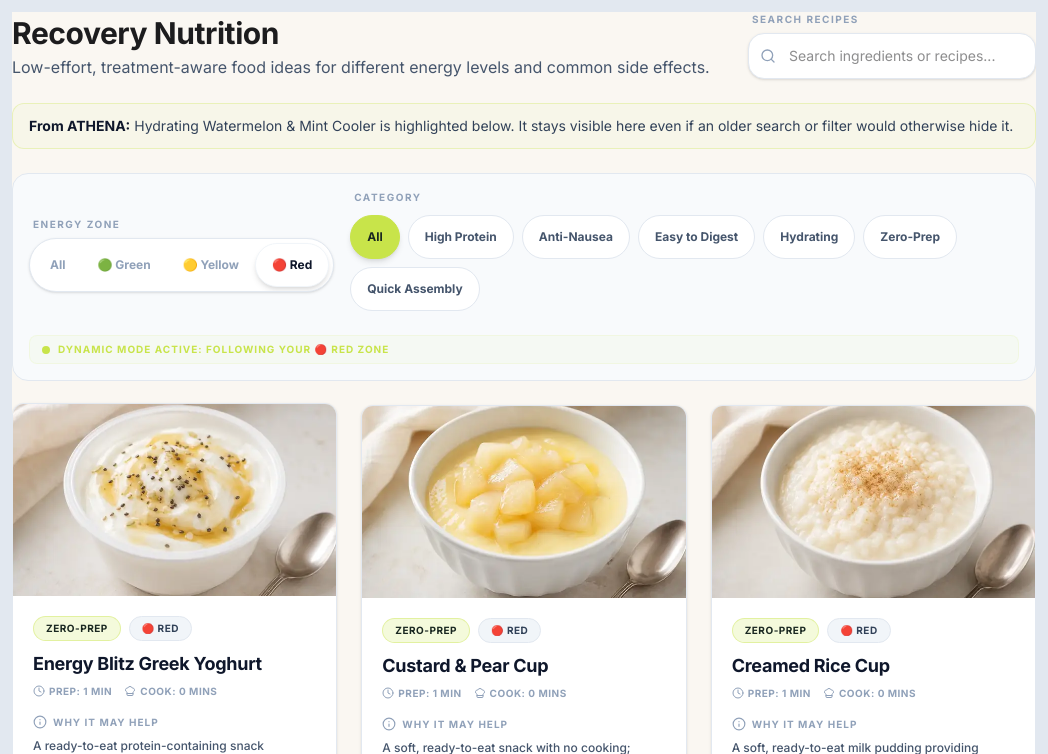
Test: Movement and Nutrition page entry scroll › does not snap Nutrition to top when search locally clears the ATHENA target
In the field labelled "Search recipes": {"x": 892, "y": 56} [748,33,1036,79], type "x"
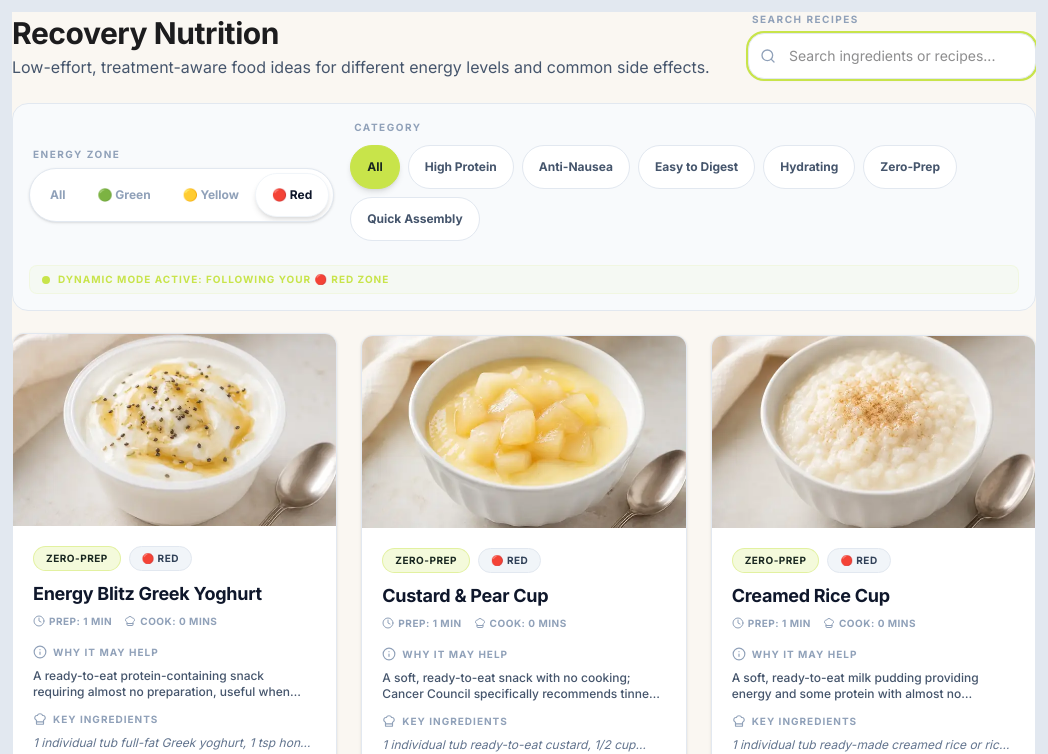
expect the text "From ATHENA:" is gone: met
